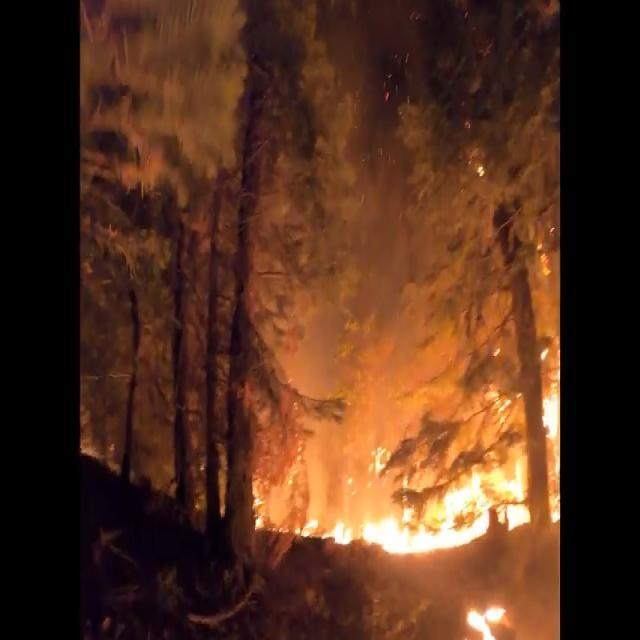Fire: (254, 334, 560, 640)
